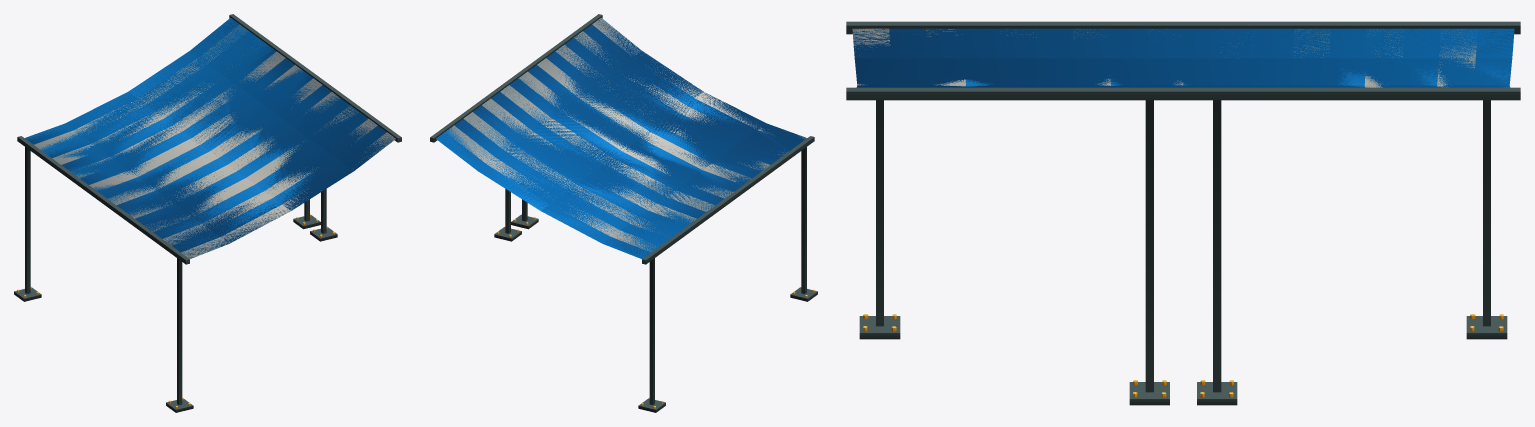
Rendered from Canopy_1E.fbx.
The picture shows the model from 3 angles, left to right: view 1: azimuth 30°, elevation 25°; view 2: azimuth 150°, elevation 25°; view 3: azimuth 270°, elevation 25°; orthographic projection. The views are drawn at different scales.
Visible parts, largest first — view 1: Canopy_1E; view 2: Canopy_1E; view 3: Canopy_1E.
Boxes of the visible parts, x1,y1,x2,y2 form: Canopy_1E: (14, 14, 401, 412); Canopy_1E: (430, 14, 817, 412); Canopy_1E: (846, 21, 1520, 405).
Size of the model in its own units: 1570 by 1464 by 2000.
